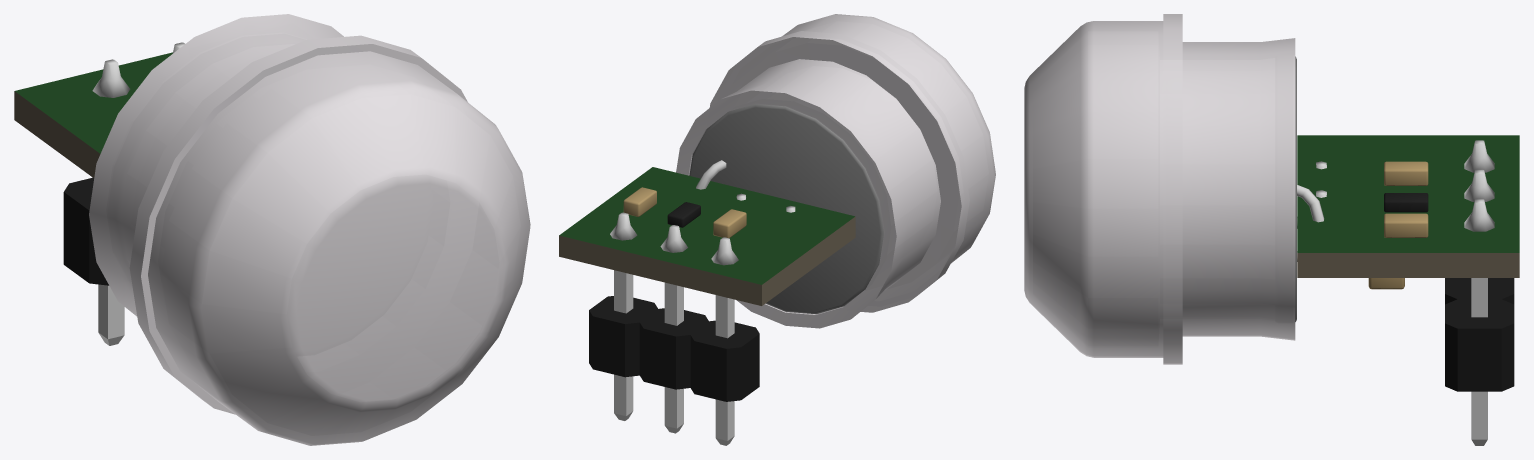
Rendered from light.gltf.
3 views of the same model, side by side, from view 1: azimuth 30°, elevation 25°; view 2: azimuth 150°, elevation 25°; view 3: azimuth 270°, elevation 25° (orthographic). The views are drawn at different scales.
Visible parts, largest first — view 1: board_board_0; view 2: board_board_0; view 3: board_board_0.
Boxes of the visible parts, x1,y1,x2,y2 form: board_board_0: (14, 14, 530, 445); board_board_0: (559, 14, 995, 445); board_board_0: (1024, 14, 1519, 445).
Size of the model in its own units: 3.89 by 4.39 by 5.39.
